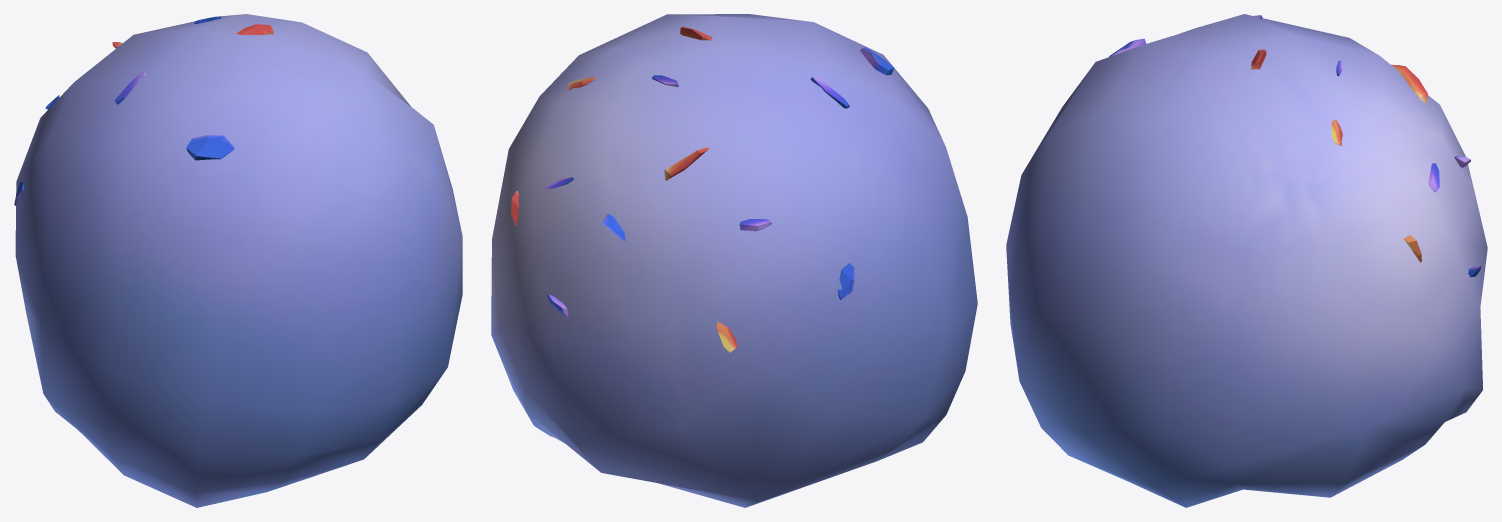
Rendered from bocha_azul.fbx.
3 views of the same model, side by side, from view 1: azimuth 30°, elevation 25°; view 2: azimuth 150°, elevation 25°; view 3: azimuth 270°, elevation 25° (orthographic). The views are drawn at different scales.
Parts seen in each view (by area): view 1: Retopo_Cube.006; view 2: Retopo_Cube.006; view 3: Retopo_Cube.006.
Boxes of the visible parts, x1=… form: Retopo_Cube.006: x1=14, y1=14, x2=462, y2=507; Retopo_Cube.006: x1=491, y1=14, x2=977, y2=507; Retopo_Cube.006: x1=1006, y1=14, x2=1487, y2=507.
Size of the model in its own units: 172 by 165 by 170.
1 material, 1 textured.
